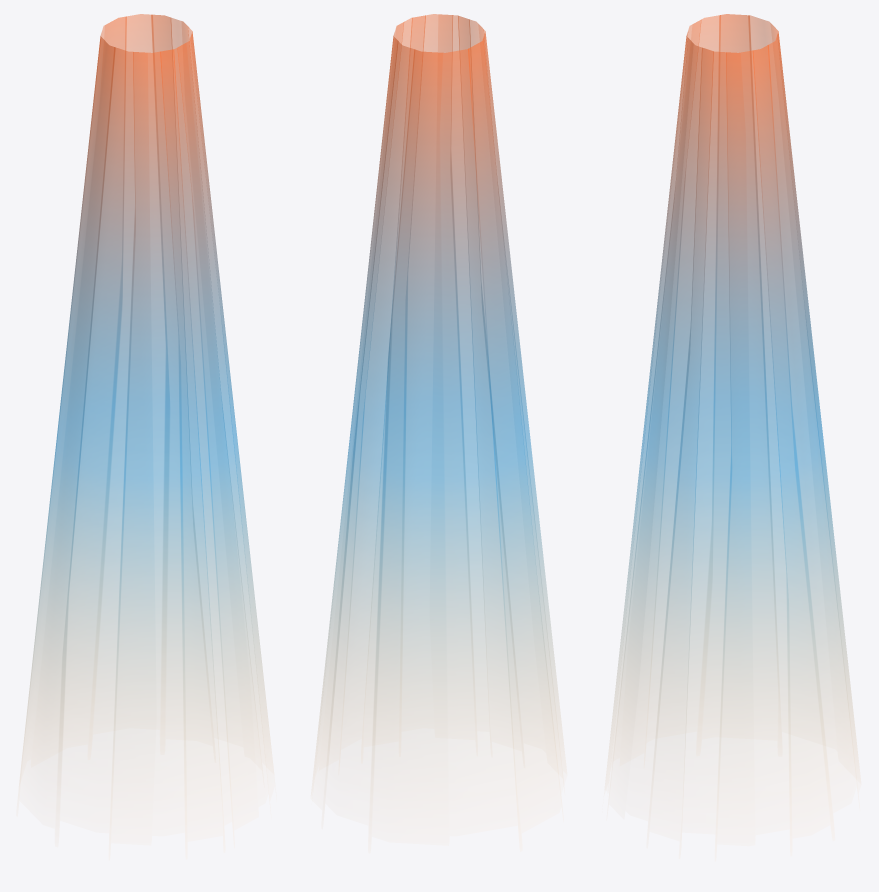
File: elevator_light.glb
3 views of the same model, side by side, from view 1: azimuth 30°, elevation 25°; view 2: azimuth 150°, elevation 25°; view 3: azimuth 270°, elevation 25° (orthographic).
Parts seen in each view (by area): view 1: Tech_Elevator_light; view 2: Tech_Elevator_light; view 3: Tech_Elevator_light.
Part boxes in pixels (box(x1,y1,x2,y2)): Tech_Elevator_light: box(23, 14, 268, 764); Tech_Elevator_light: box(318, 14, 558, 761); Tech_Elevator_light: box(611, 14, 854, 766).
Size of the model in its own units: 6.36 by 20.91 by 6.36.
1 material, 1 textured.
